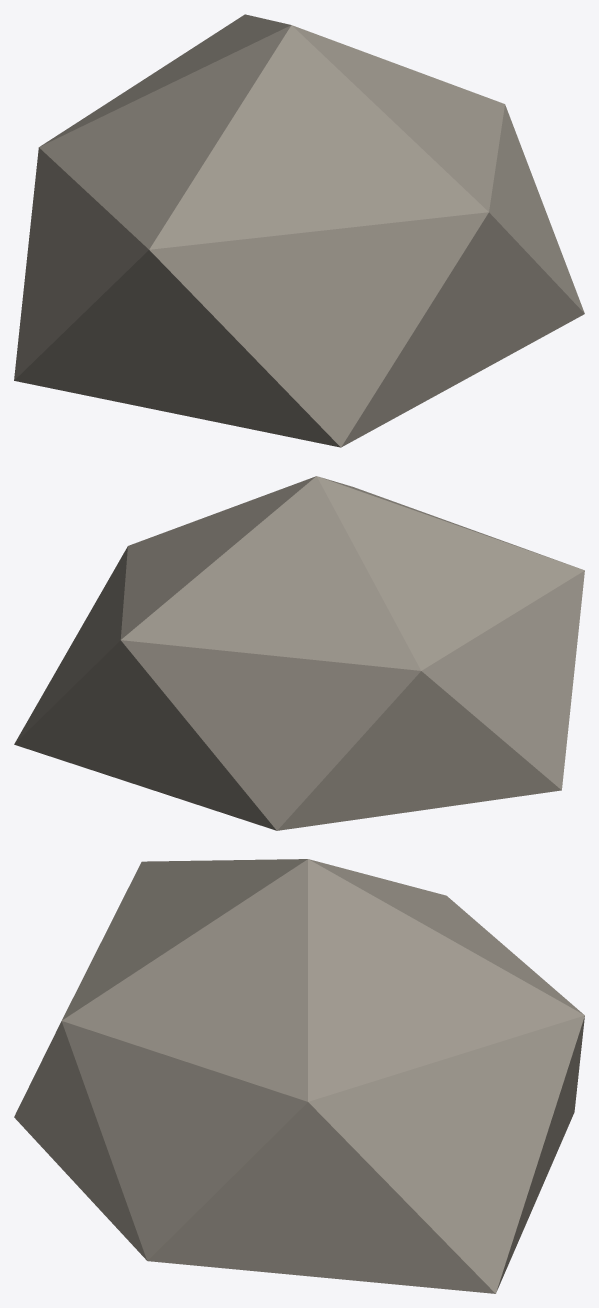
Rendered from HS_LP_Rock_Medium_03.fbx.
The picture shows the model from 3 angles, top to bottom: view 1: azimuth 30°, elevation 25°; view 2: azimuth 150°, elevation 25°; view 3: azimuth 270°, elevation 25°; orthographic projection. The views are drawn at different scales.
Visible parts, largest first — view 1: HS_LP_Rock_Medium_03; view 2: HS_LP_Rock_Medium_03; view 3: HS_LP_Rock_Medium_03.
Boxes of the visible parts, x1,y1,x2,y2 form: HS_LP_Rock_Medium_03: [14, 14, 584, 447]; HS_LP_Rock_Medium_03: [14, 476, 584, 830]; HS_LP_Rock_Medium_03: [14, 859, 584, 1293].
Size of the model in its own units: 99.42 by 53.76 by 90.04.
